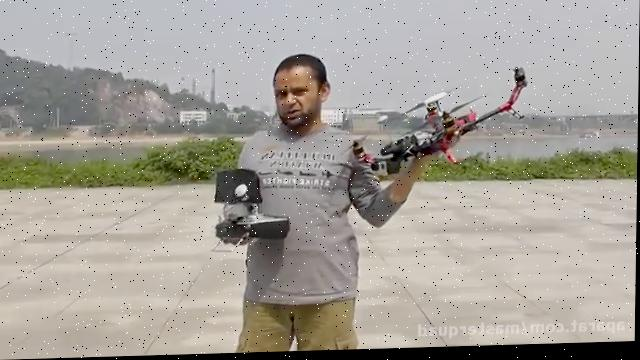drone: (338, 67, 531, 179)
